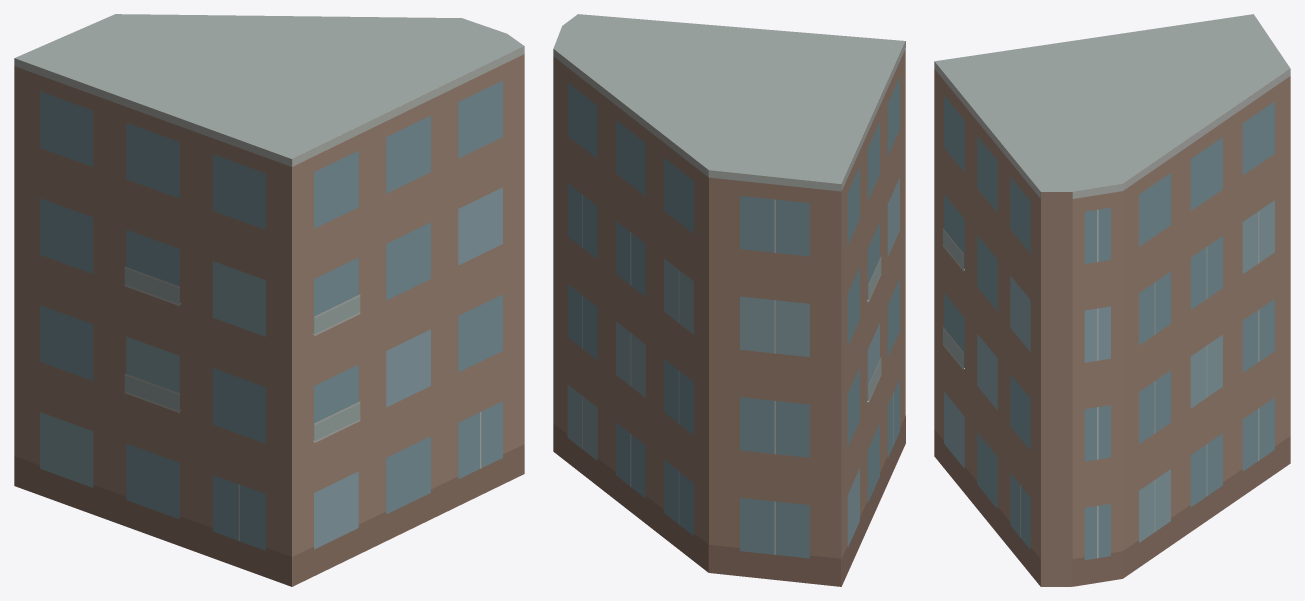
Rendered from survey-upis-32799404.glb.
3 views of the same model, side by side, from view 1: azimuth 30°, elevation 25°; view 2: azimuth 150°, elevation 25°; view 3: azimuth 270°, elevation 25° (orthographic). The views are drawn at different scales.
Visible parts, largest first — view 1: survey-upis-32799404.tmp; view 2: survey-upis-32799404.tmp; view 3: survey-upis-32799404.tmp.
Boxes of the visible parts, bbox=[...] form: survey-upis-32799404.tmp: bbox=[14, 14, 524, 586]; survey-upis-32799404.tmp: bbox=[553, 14, 905, 586]; survey-upis-32799404.tmp: bbox=[934, 14, 1290, 586].
Bounding box in the file's own units: 12.86 × 13.3 × 10.88.
